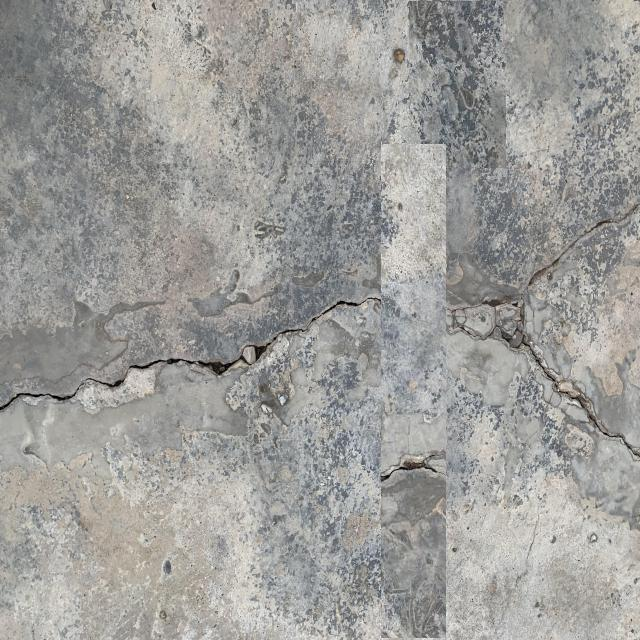diagonal crack: (0, 288, 387, 451)
horizontal crack: (367, 444, 459, 502)
multi-branched crack: (444, 122, 640, 525)
